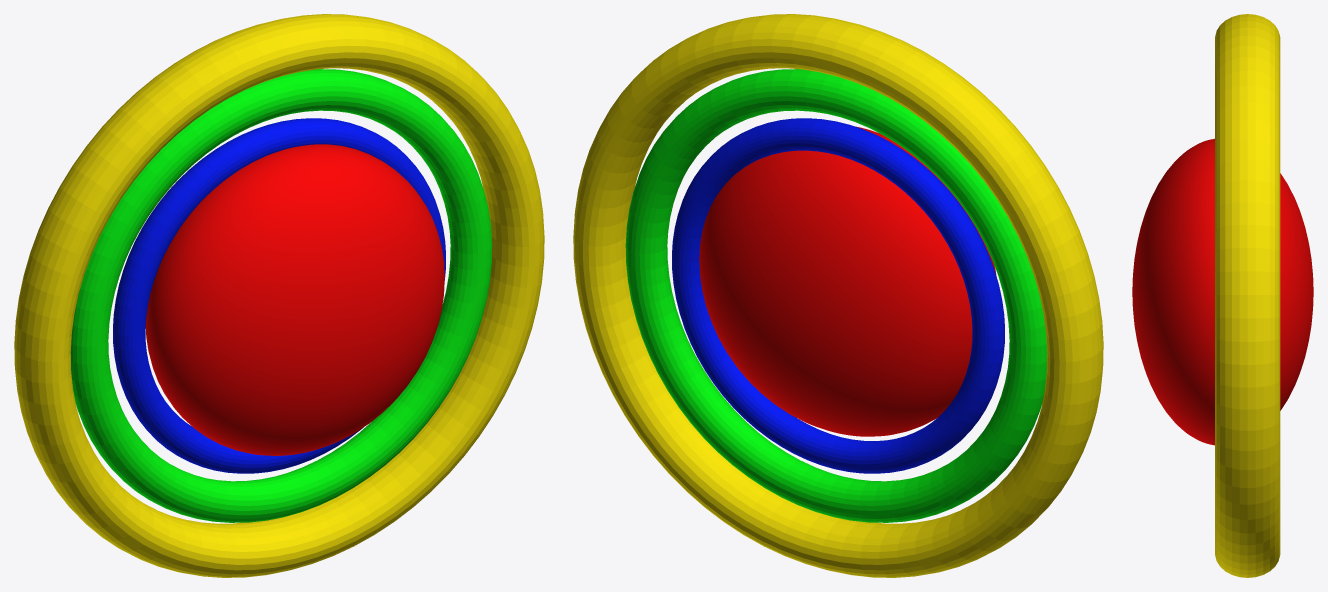
File: Project Name.fbx
3 views of the same model, side by side, from view 1: azimuth 30°, elevation 25°; view 2: azimuth 150°, elevation 25°; view 3: azimuth 270°, elevation 25° (orthographic). The views are drawn at different scales.
Visible parts, largest first — view 1: Border, Sphere, Border 1, Border 2; view 2: Border, Sphere, Border 1, Border 2; view 3: Border, Sphere.
Boxes of the visible parts, x1,y1,x2,y2 form: Border: [14, 14, 544, 577]; Sphere: [145, 144, 444, 455]; Border 1: [70, 69, 492, 522]; Border 2: [113, 118, 445, 473]; Border: [573, 14, 1103, 577]; Sphere: [699, 126, 996, 436]; Border 1: [625, 69, 1047, 522]; Border 2: [672, 118, 1004, 473]; Border: [1215, 14, 1280, 577]; Sphere: [1132, 138, 1313, 445].
Bounding box in the file's own units: 31.09 × 10 × 31.1.
